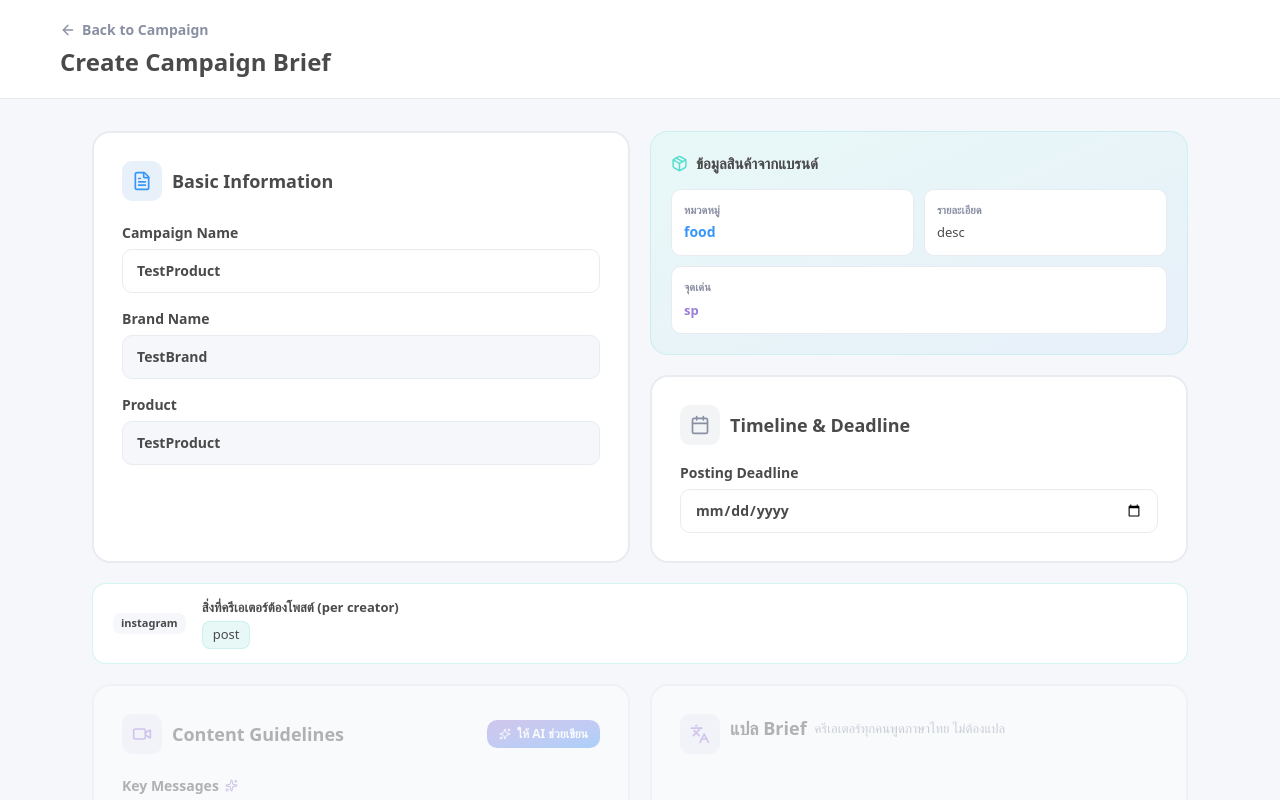
Test: CreateBriefPage — AI prompt dialog › closes dialog when clicking ยกเลิก
Click the button "ให้ AI ช่วยเขียน" at point(544, 734), box x1=487 y1=720 x2=600 y2=748
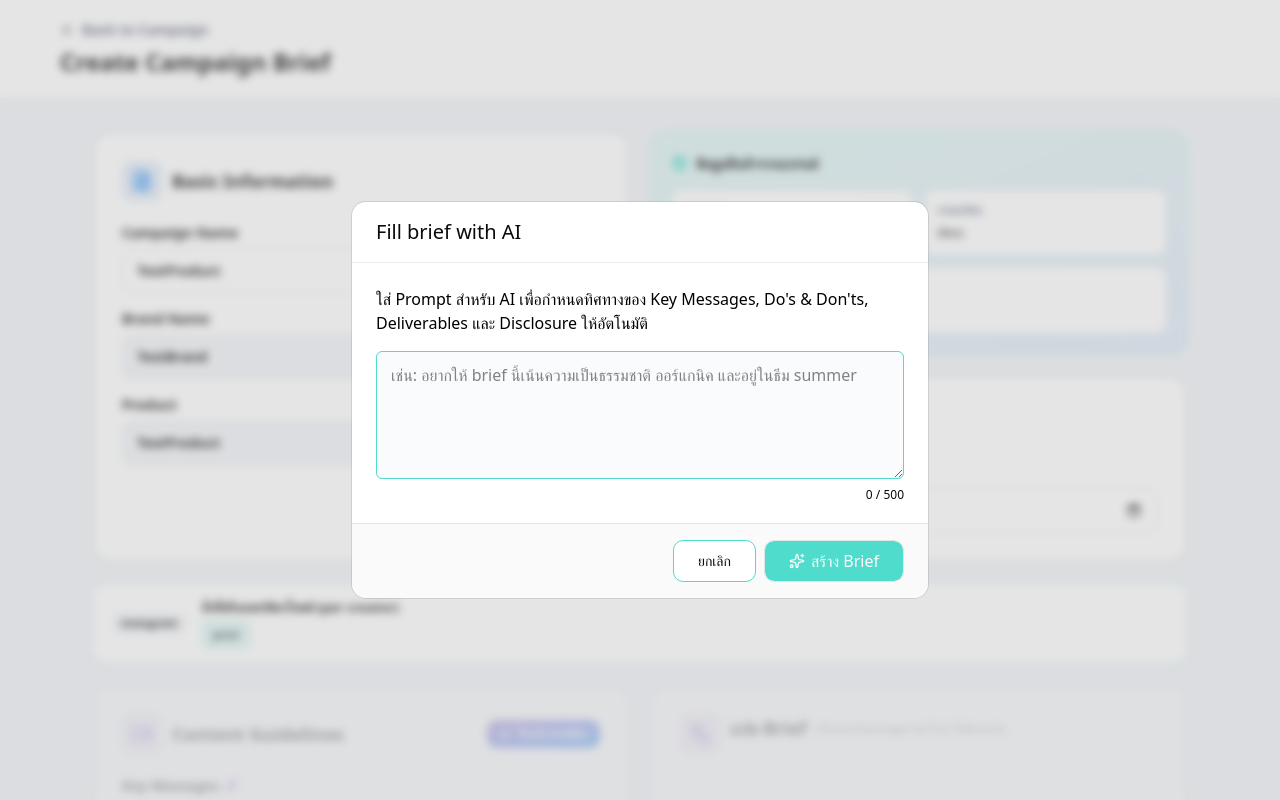
Expected: the text "Fill brief with AI" is shown, x1=376 y1=218 x2=521 y2=245
Click the button "ยกเลิก" at point(714, 561), box x1=673 y1=540 x2=756 y2=582
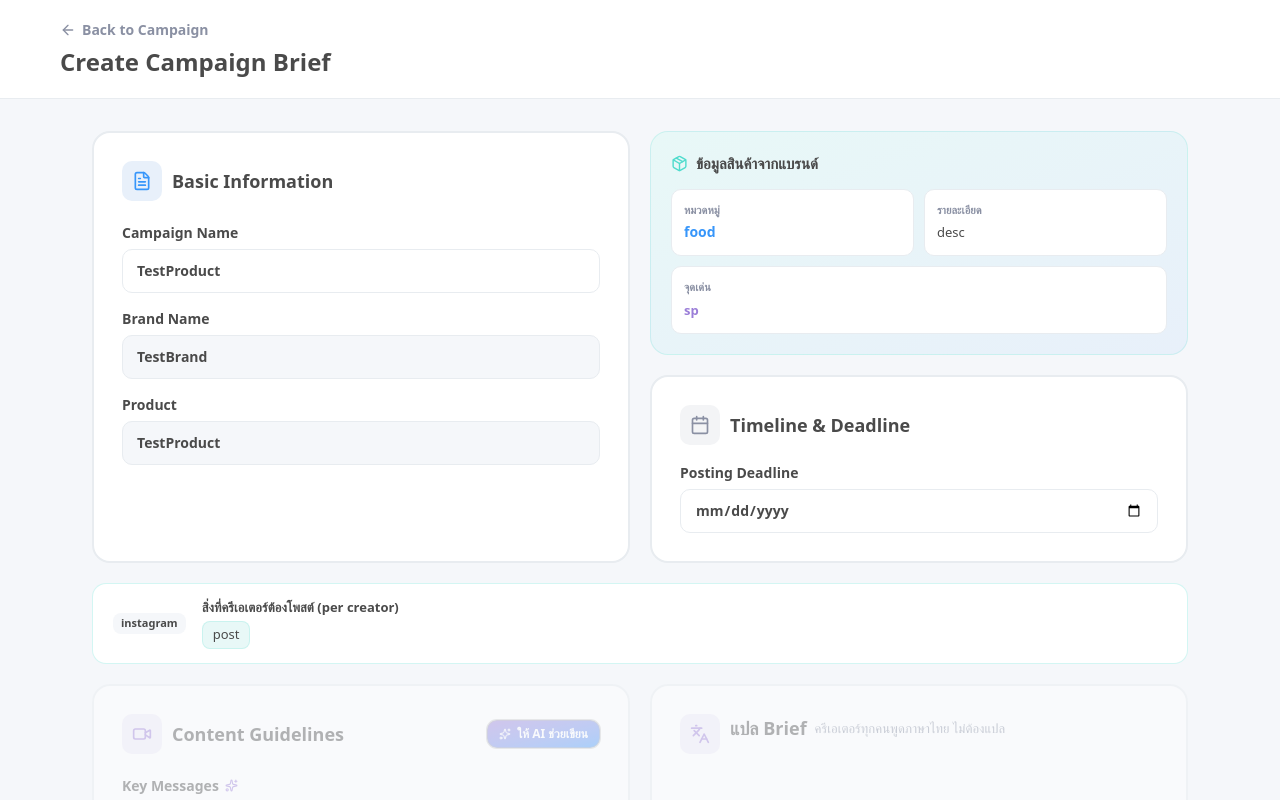
Expected: the text "Fill brief with AI" is gone
